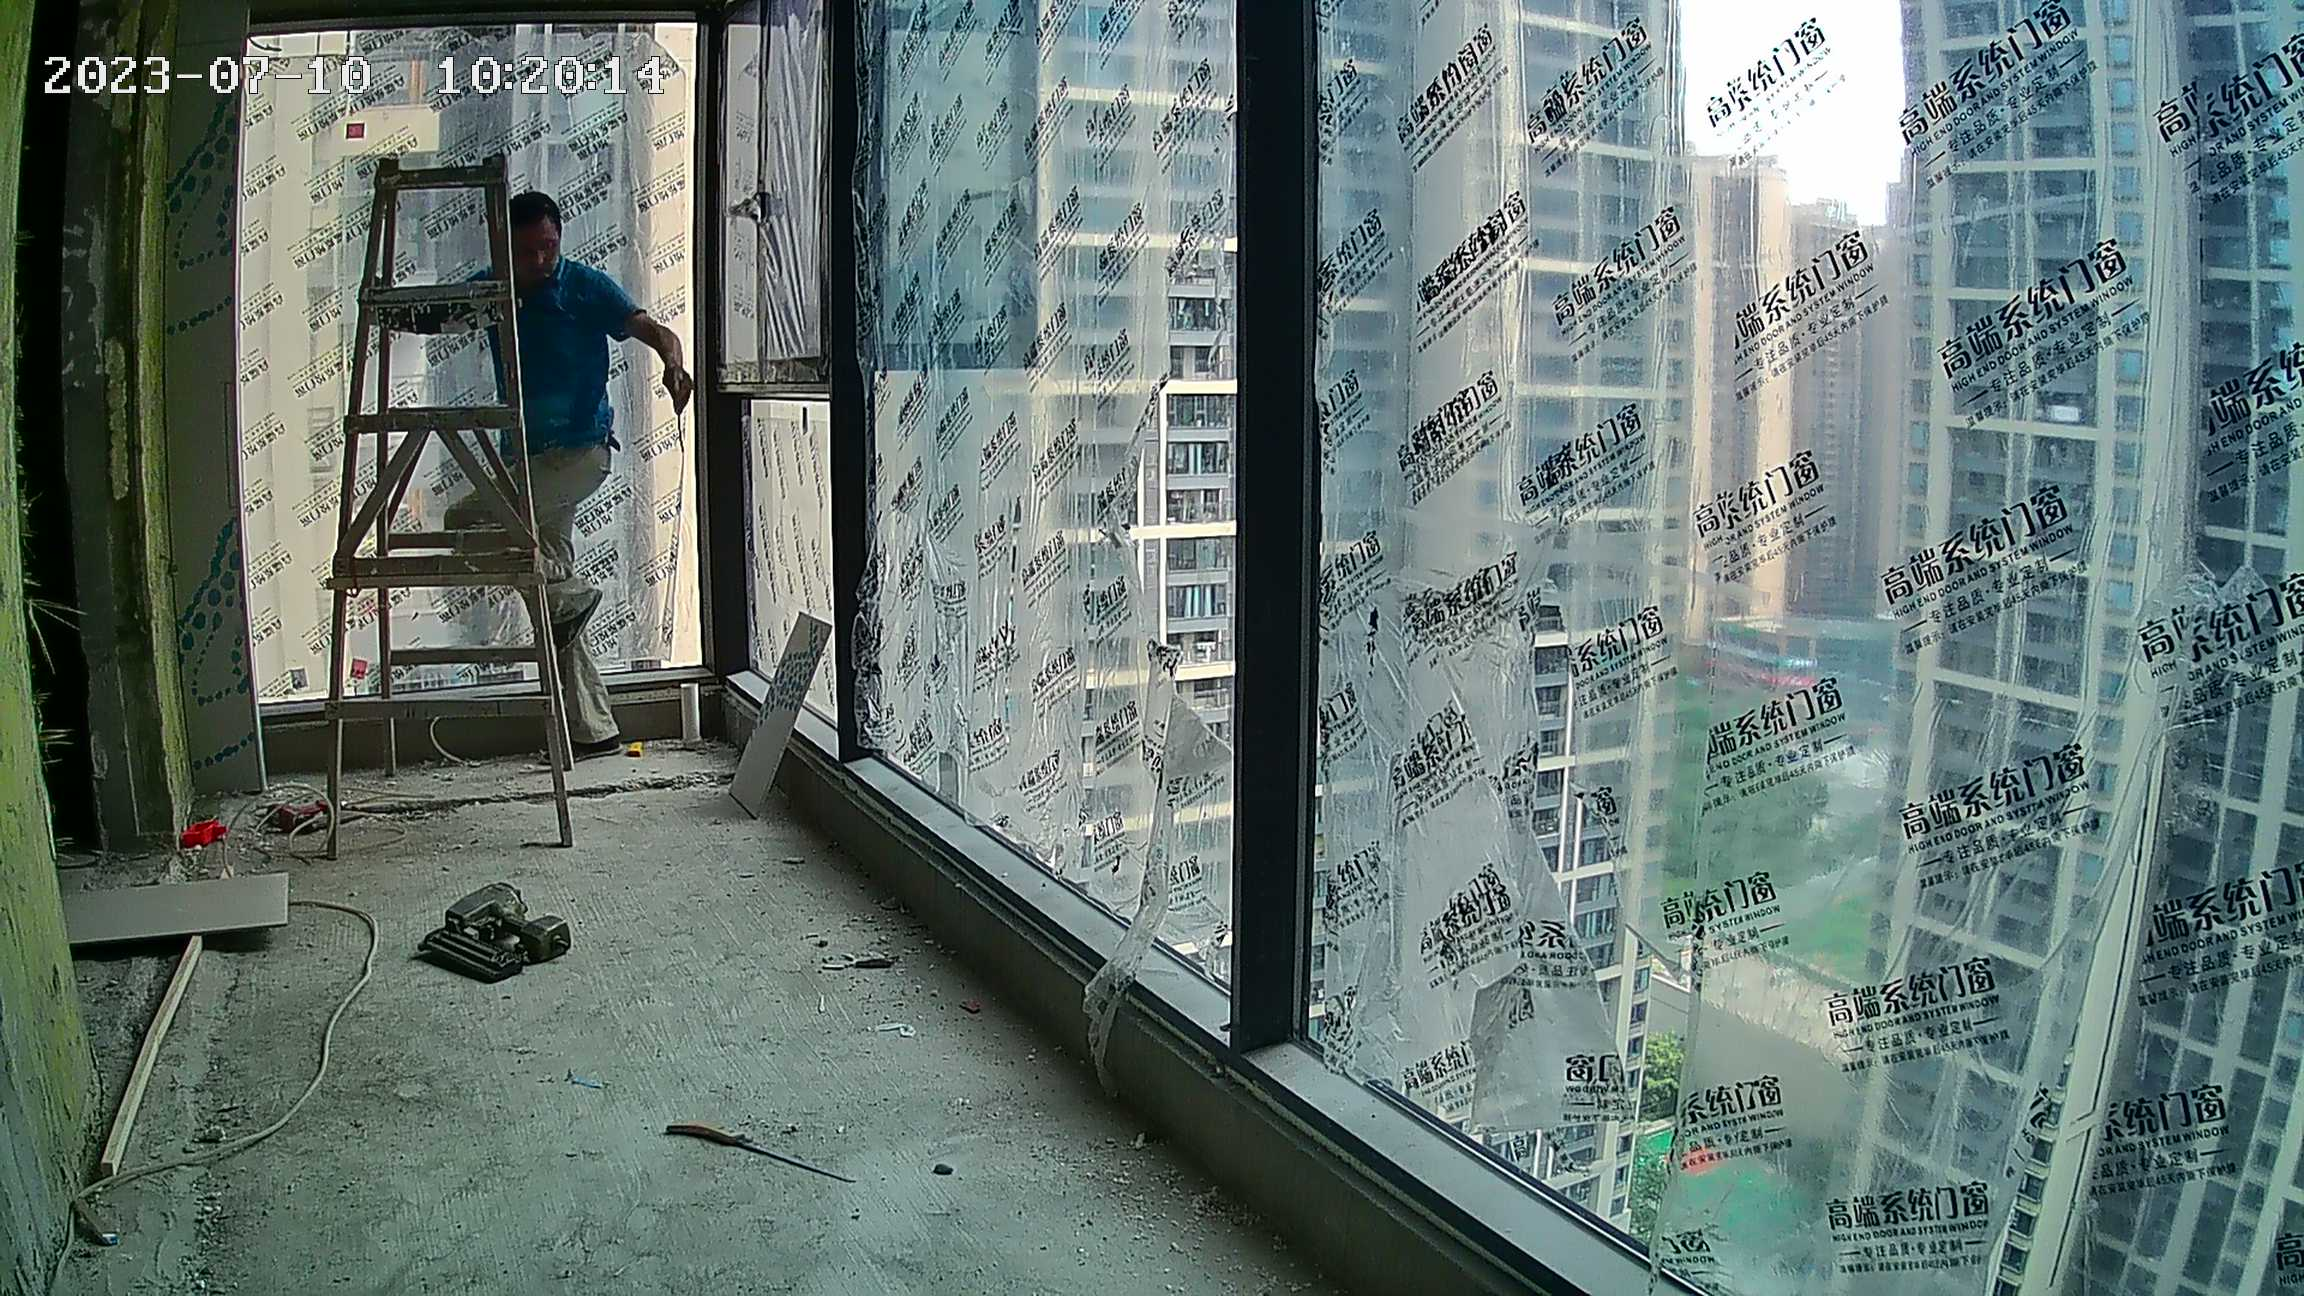people: (466, 197, 698, 758)
window: (734, 24, 2295, 1296), (214, 32, 705, 682)
